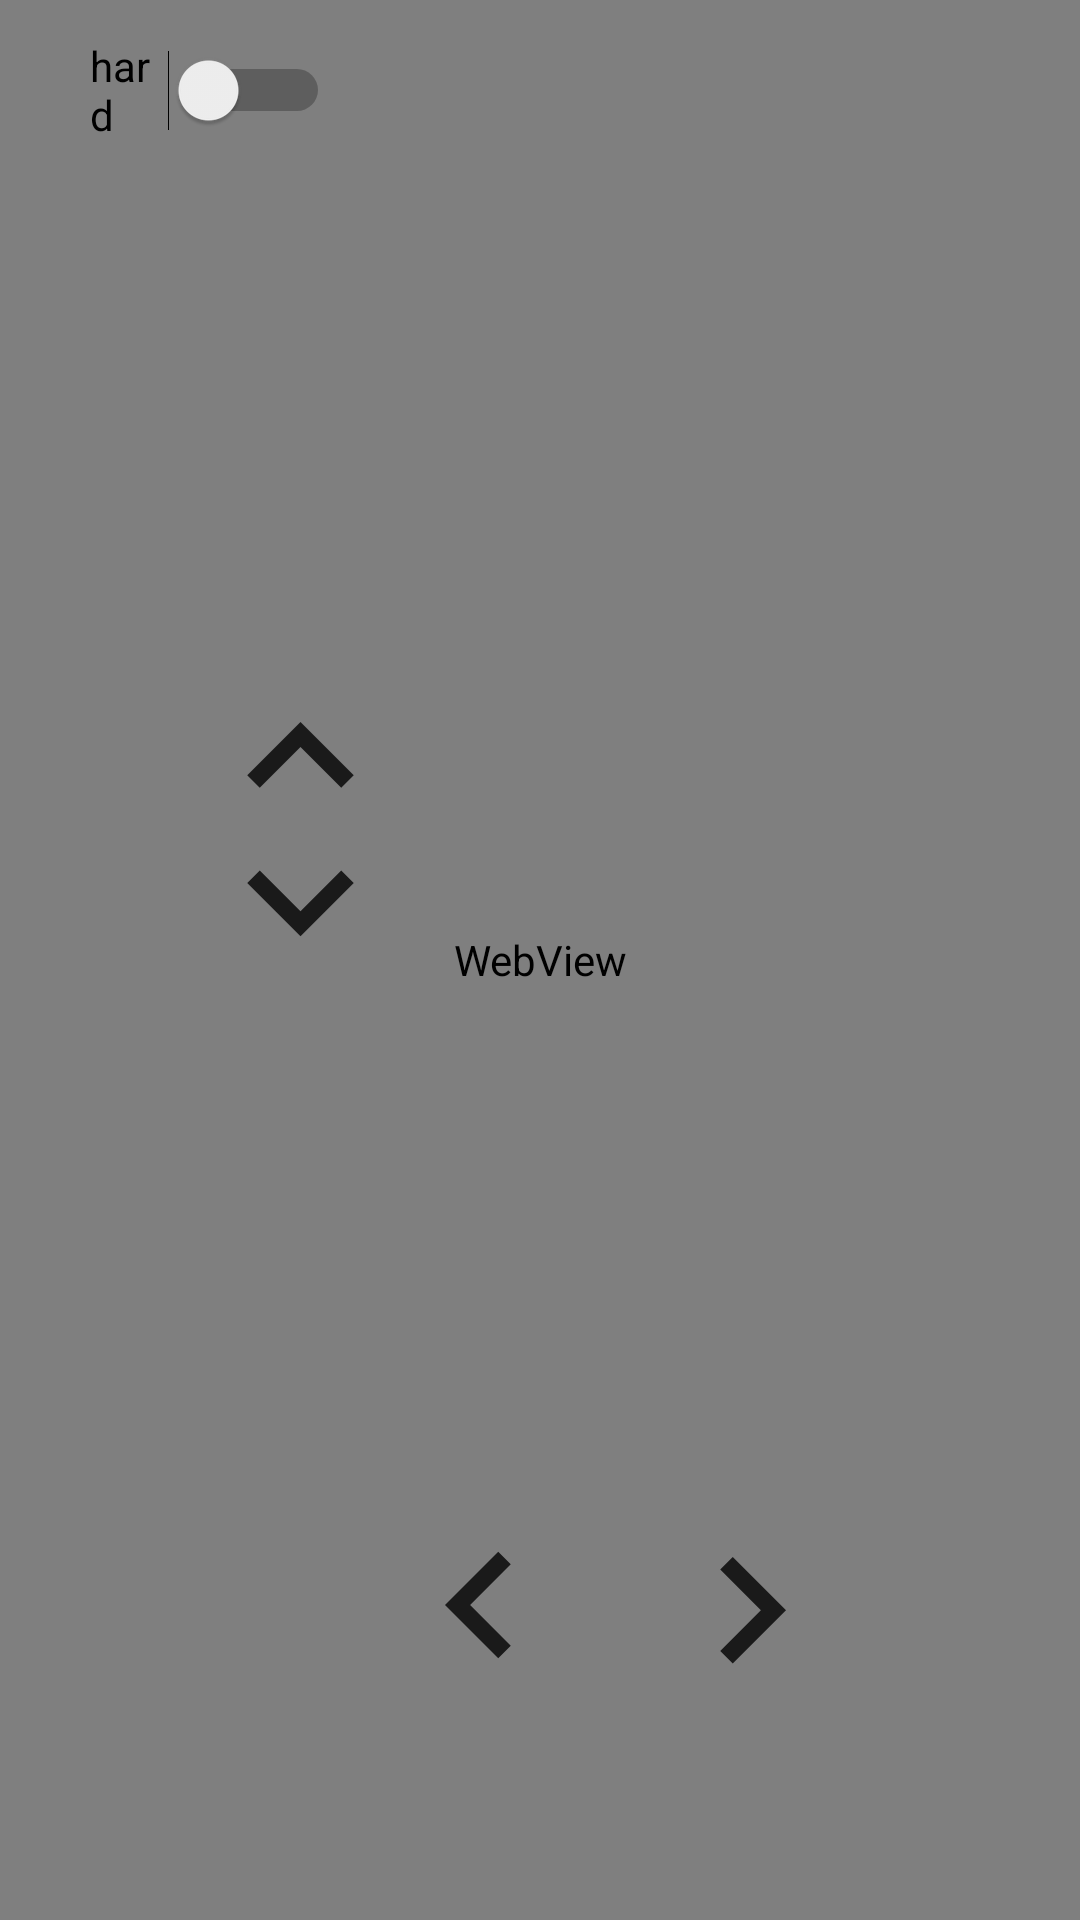

Locate icon controls on the screen. Image size 1080px x 1920px, boxes as (x1, y1, x2, y2).
arrow down: (247, 871, 354, 936)
arrow left: (445, 1552, 511, 1658)
arrow right: (720, 1557, 786, 1663)
arrow up: (247, 722, 354, 788)
